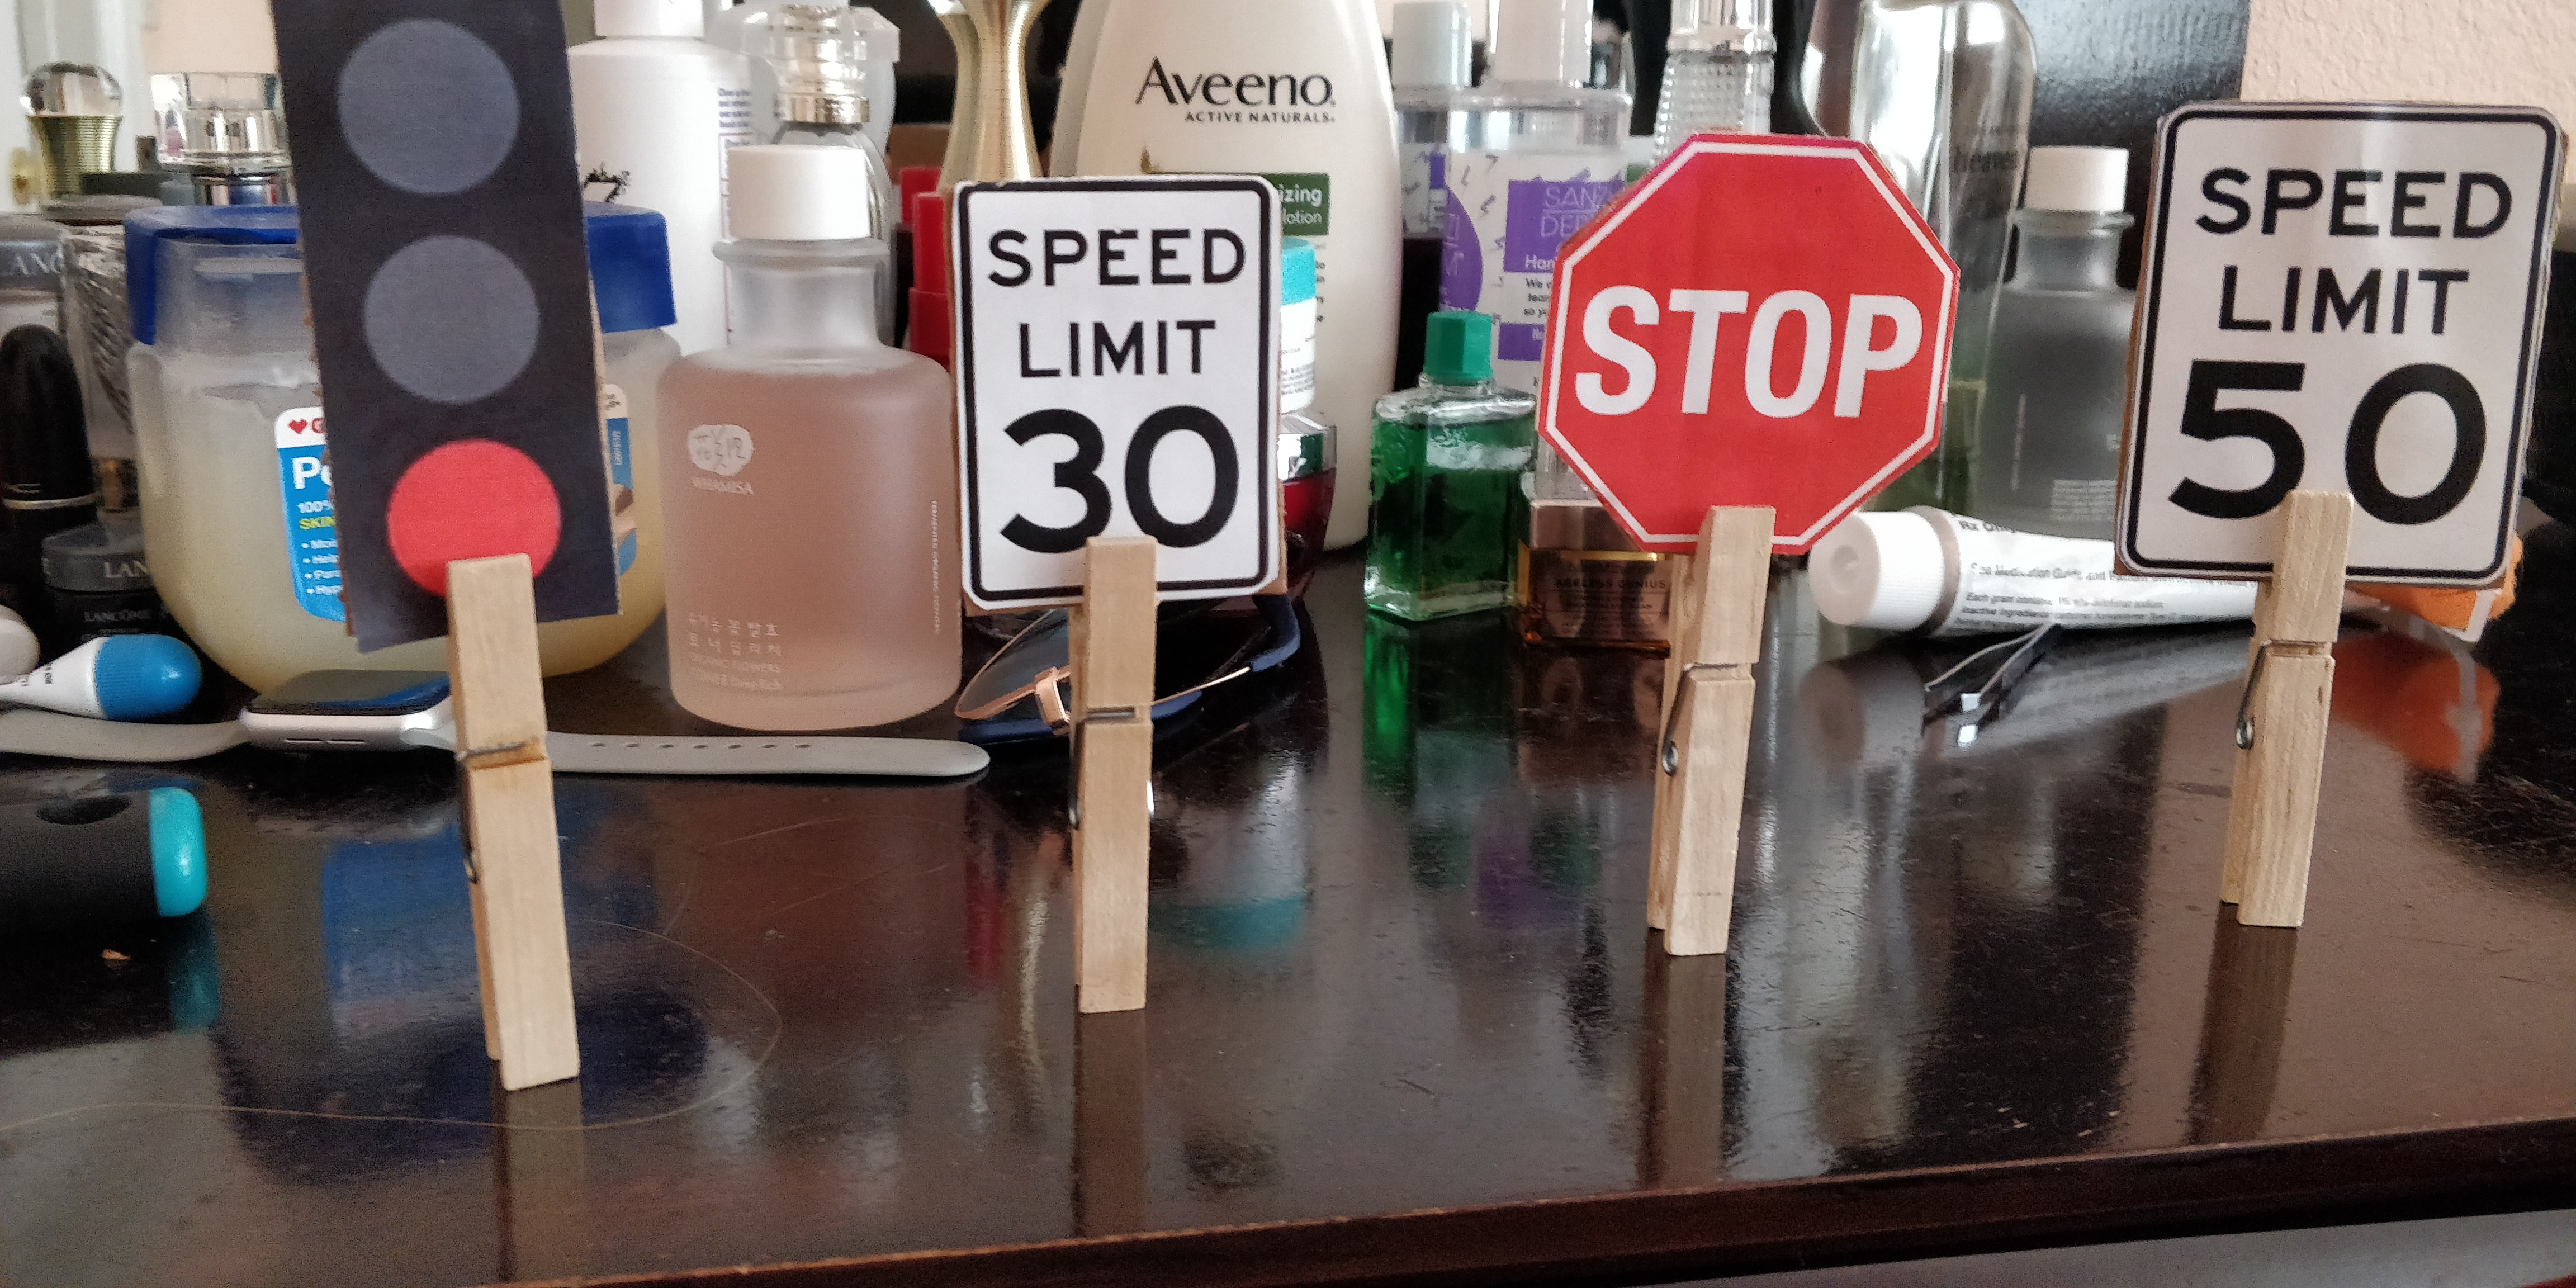Speed Limit 30: (946, 174, 1283, 608)
Speed Limit 50: (2114, 102, 2566, 583)
Stop Sign: (1536, 135, 1960, 550)
red light: (268, 2, 621, 647)
